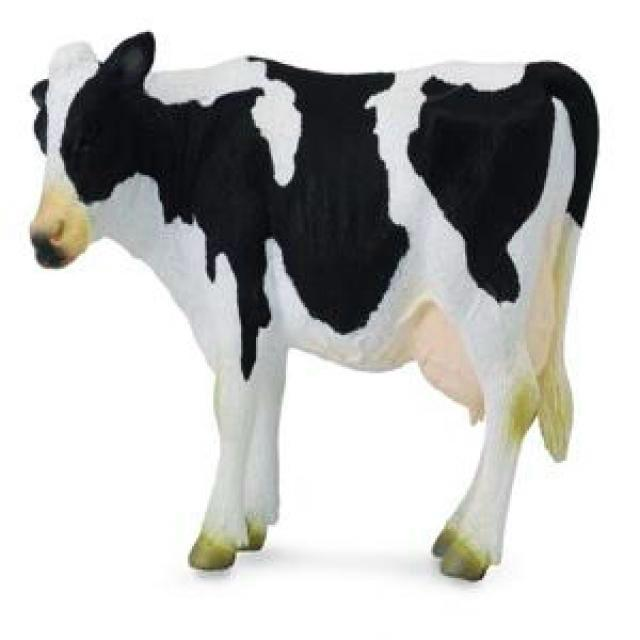cow: (31, 34, 599, 578)
